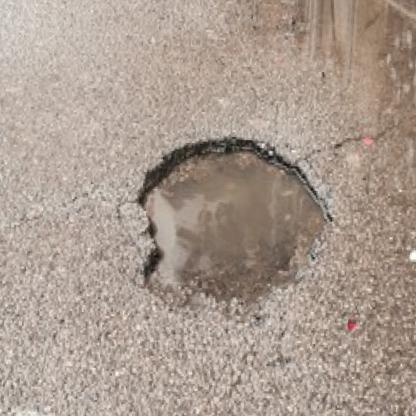pothole: (129, 132, 328, 304)
